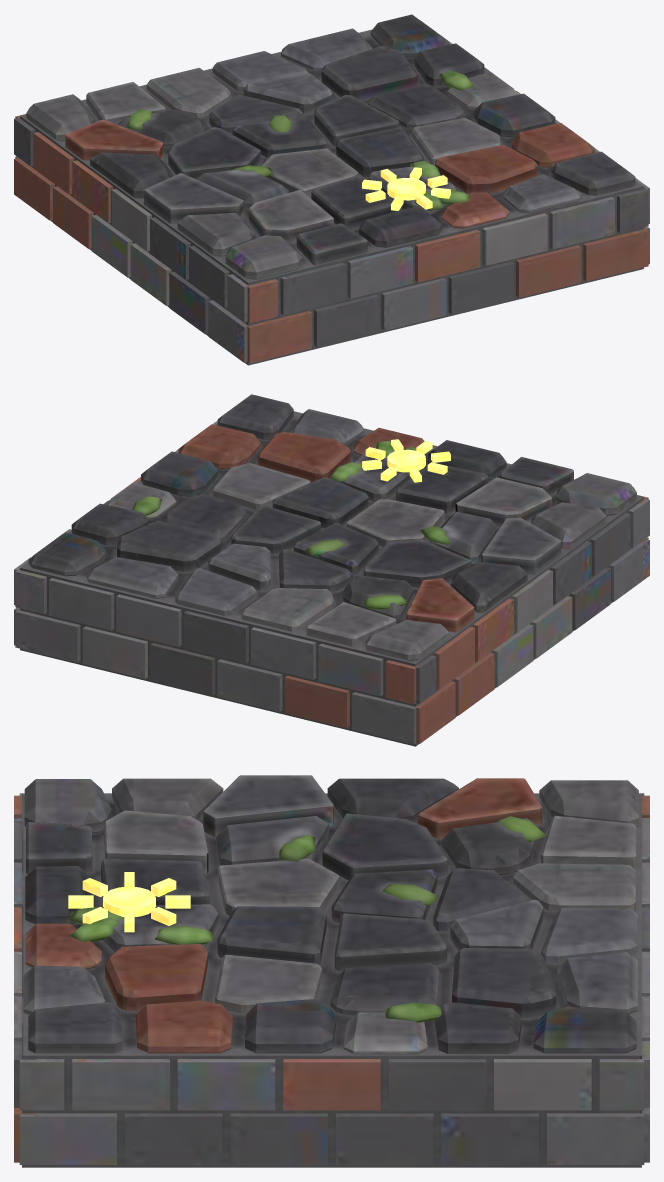
Rendered from plate_1_svarog.glb.
3 views of the same model, one above another, from view 1: azimuth 30°, elevation 25°; view 2: azimuth 150°, elevation 25°; view 3: azimuth 270°, elevation 25° (orthographic). The views are drawn at different scales.
Visible parts, largest first — view 1: plate_1_svarog; view 2: plate_1_svarog; view 3: plate_1_svarog.
Part boxes in pixels (x1,y1,x2,y2): plate_1_svarog: (14,14,649,365); plate_1_svarog: (14,394,649,746); plate_1_svarog: (14,775,649,1167).
Size of the model in its own units: 2.01 by 0.484 by 2.01.
Materials: 1 (1 with a texture image).
